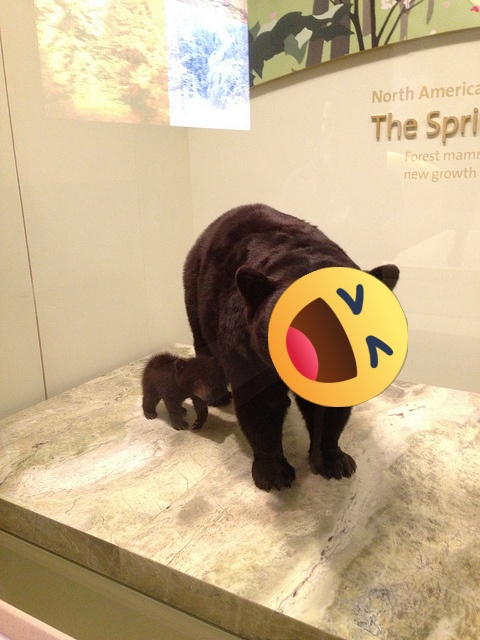haha: (268, 267, 408, 407)
